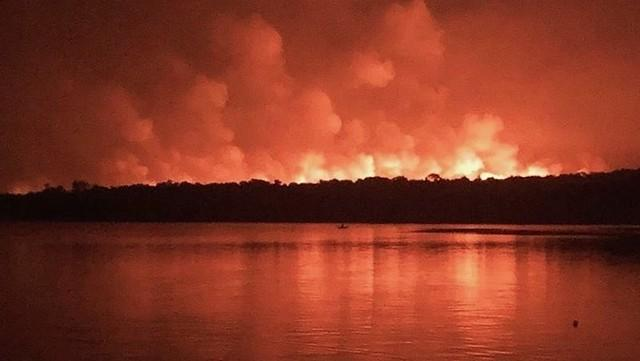smoke: (309, 152, 541, 175)
